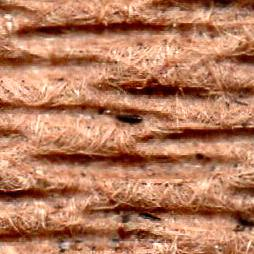egg: (116, 115, 141, 123), (140, 213, 159, 219), (240, 217, 253, 225)
